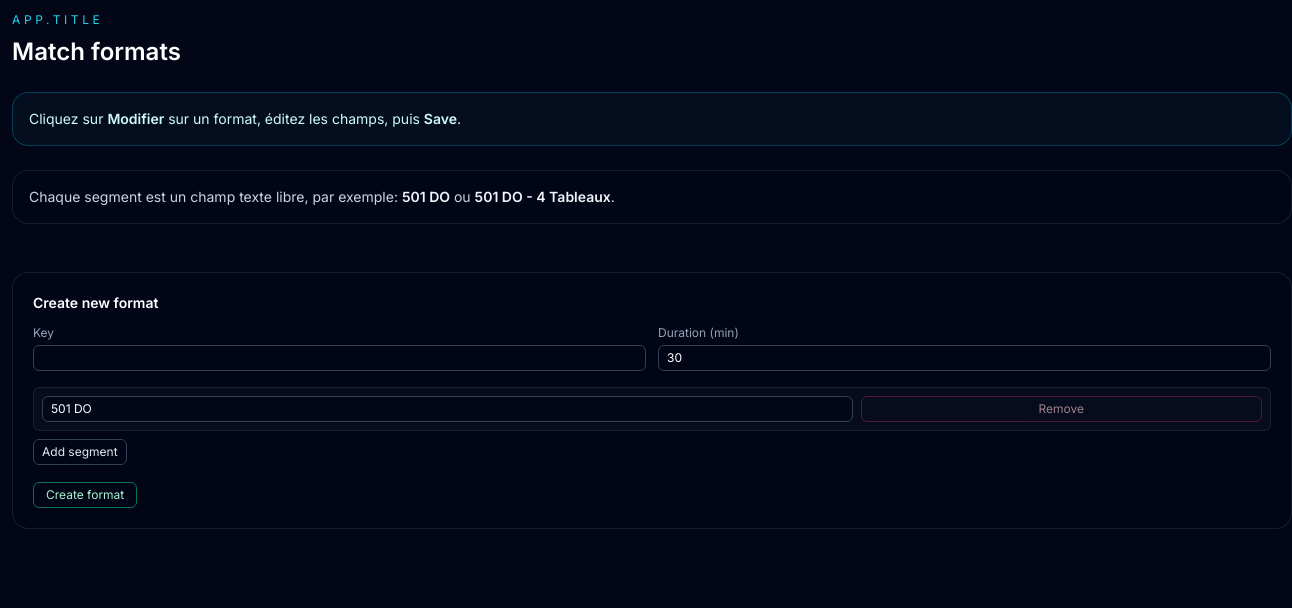
Scenario: MatchFormatsView › shows validation error when creating with invalid segment format
Expected: the heading "Create new format" is shown, x1=33 y1=294 x2=158 y2=311
Replace the text in the field named "Description du segment 1" with "invalid-segment": (447, 409) x1=42 y1=396 x2=853 y2=422
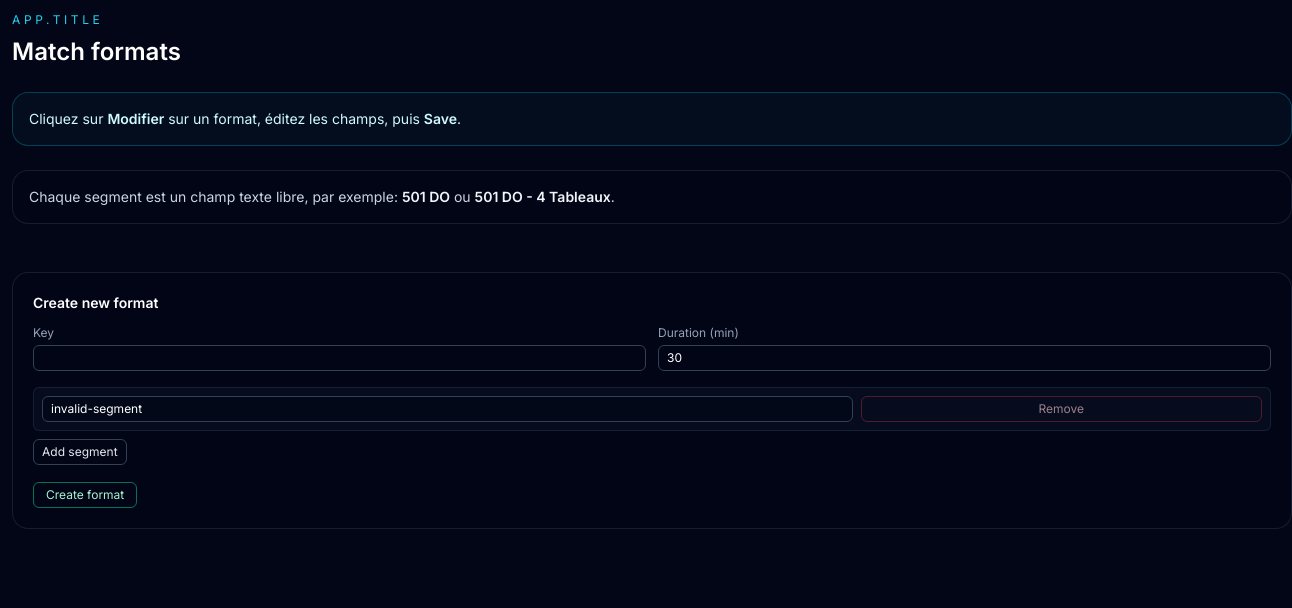
Click the button "Create format": (85, 495) x1=33 y1=482 x2=137 y2=508
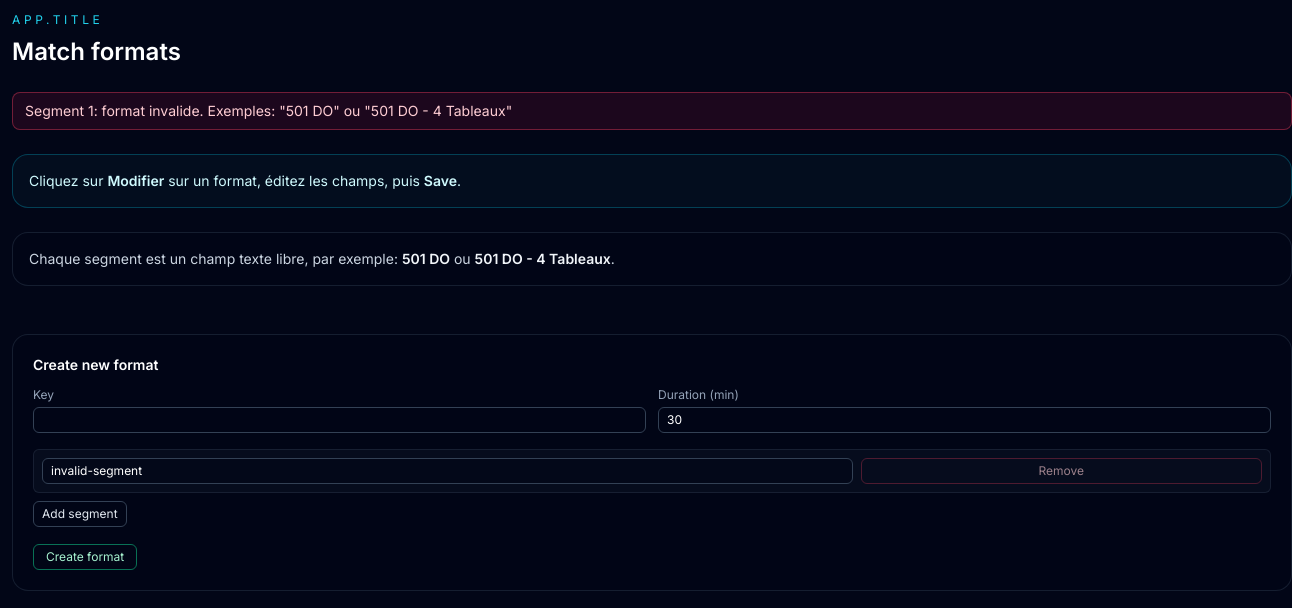
Now the text "Segment 1: format invalide" is shown, box x1=25 y1=102 x2=512 y2=119
